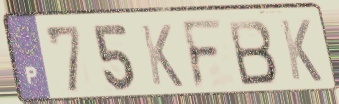5: (89, 22, 137, 94)
7: (42, 24, 85, 95)
B: (225, 18, 280, 88)
F: (179, 17, 226, 91)
K: (277, 17, 325, 85), (138, 23, 186, 90)
